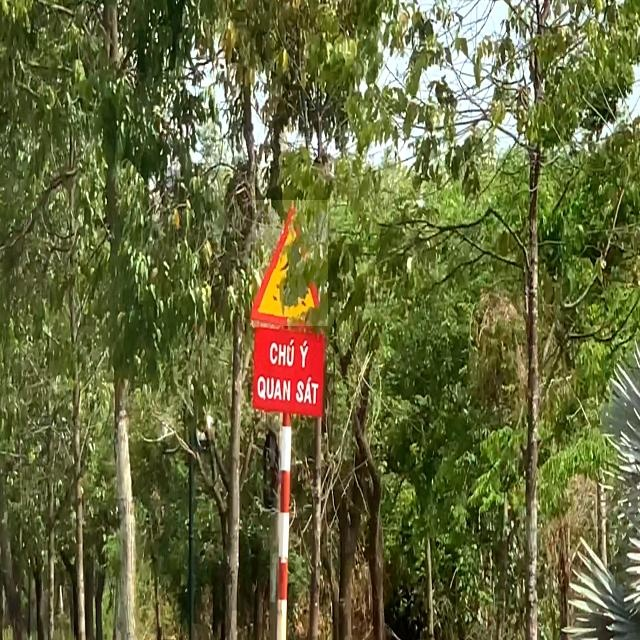bien_nguy_hiem: (252, 200, 328, 326)
